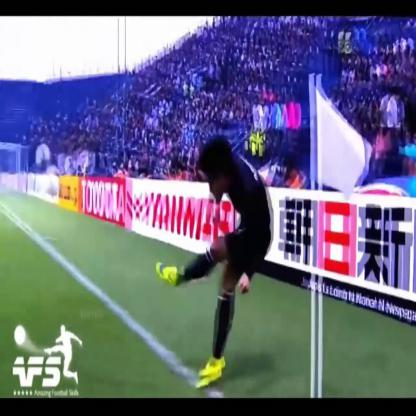corner kick: (129, 84, 357, 394)
